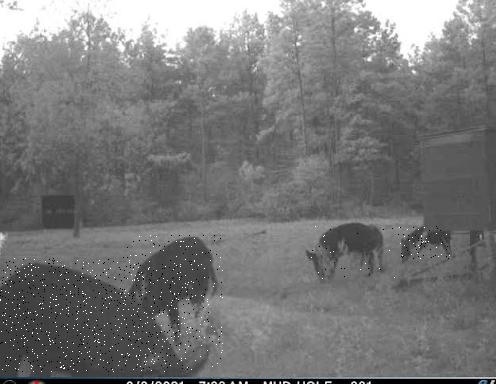Hog: (0, 258, 193, 372), (123, 235, 223, 367), (307, 221, 395, 283), (397, 226, 454, 259)
